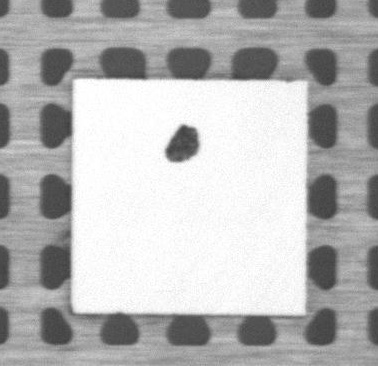DIE_INK: (163, 124, 201, 165)
